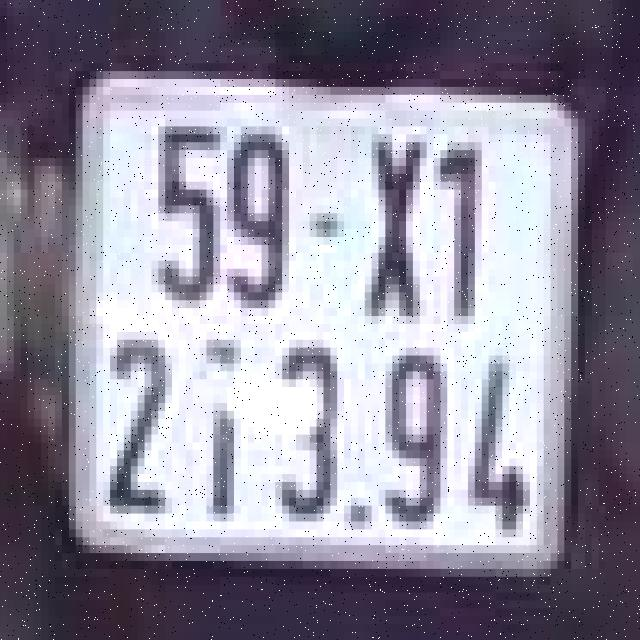1: (192, 332, 248, 529), (437, 134, 492, 324)
2: (89, 324, 186, 521)
3: (268, 332, 358, 537)
4: (461, 340, 544, 537)
5: (145, 111, 220, 308)
9: (224, 119, 299, 316), (375, 344, 451, 533)
X: (354, 122, 424, 328)
